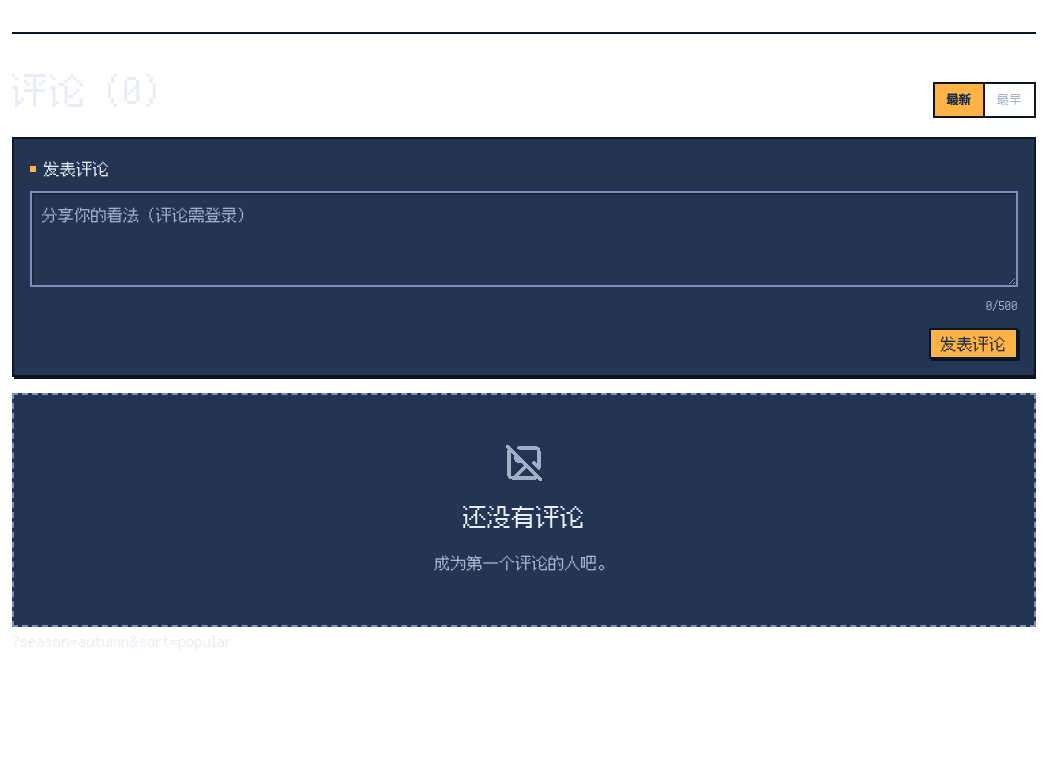
Test: 提交被 409 拒绝 › 别人在另一个标签页刚关掉评论：把后端文案原样显示，不吞成「发表失败」
The width and height of the screenshot is (1048, 768).
Type "还能说话吗" into the text box labelled "发表评论". click: [524, 239]
box: 30,191 -> 1018,287
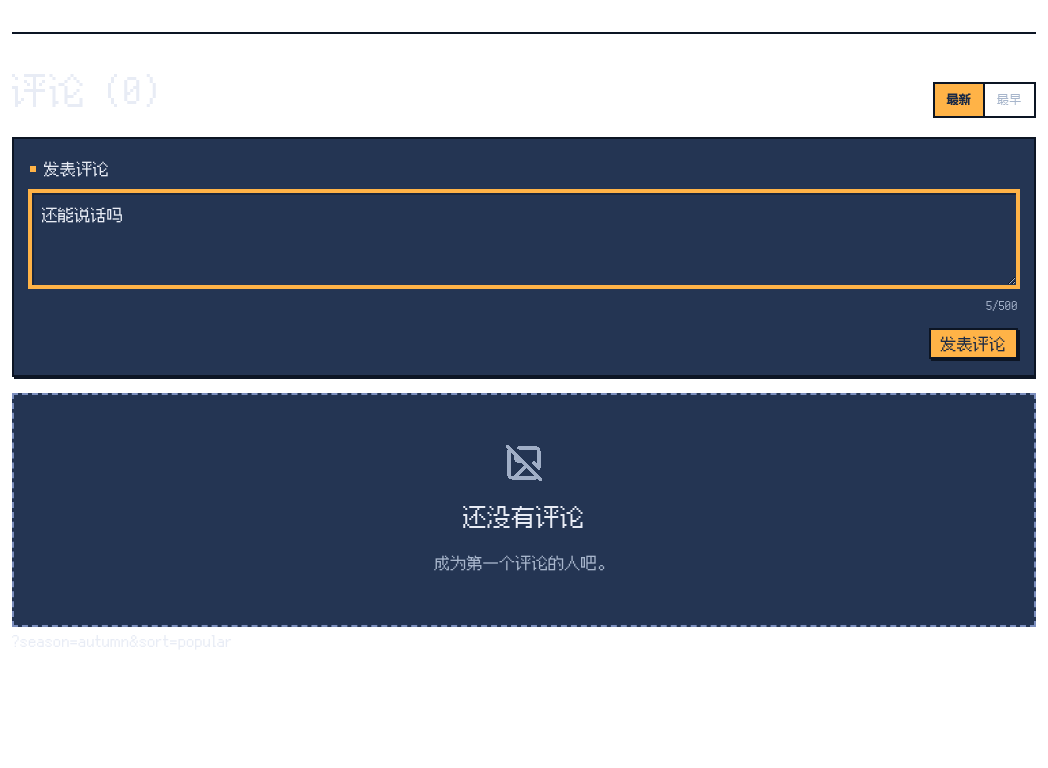
Click the button "发表评论". click: [973, 344]
box: 929,328 -> 1018,359
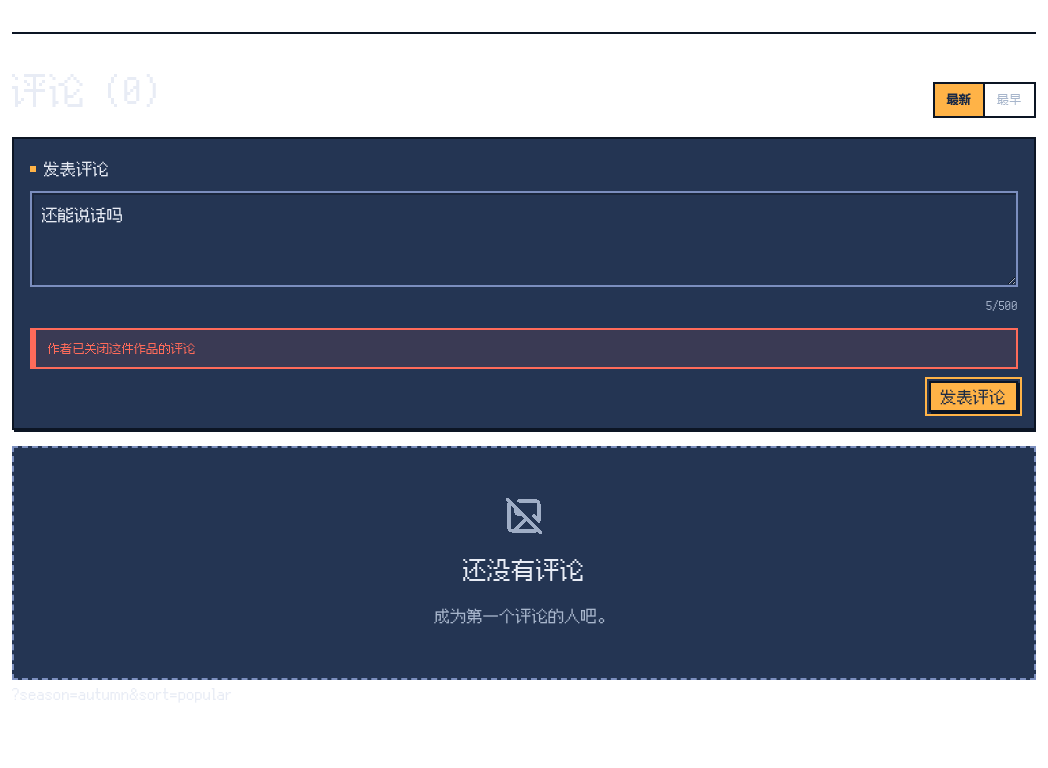
Expected: the message "作者已关闭这件作品的评论" is shown, 30,328 -> 1018,369
